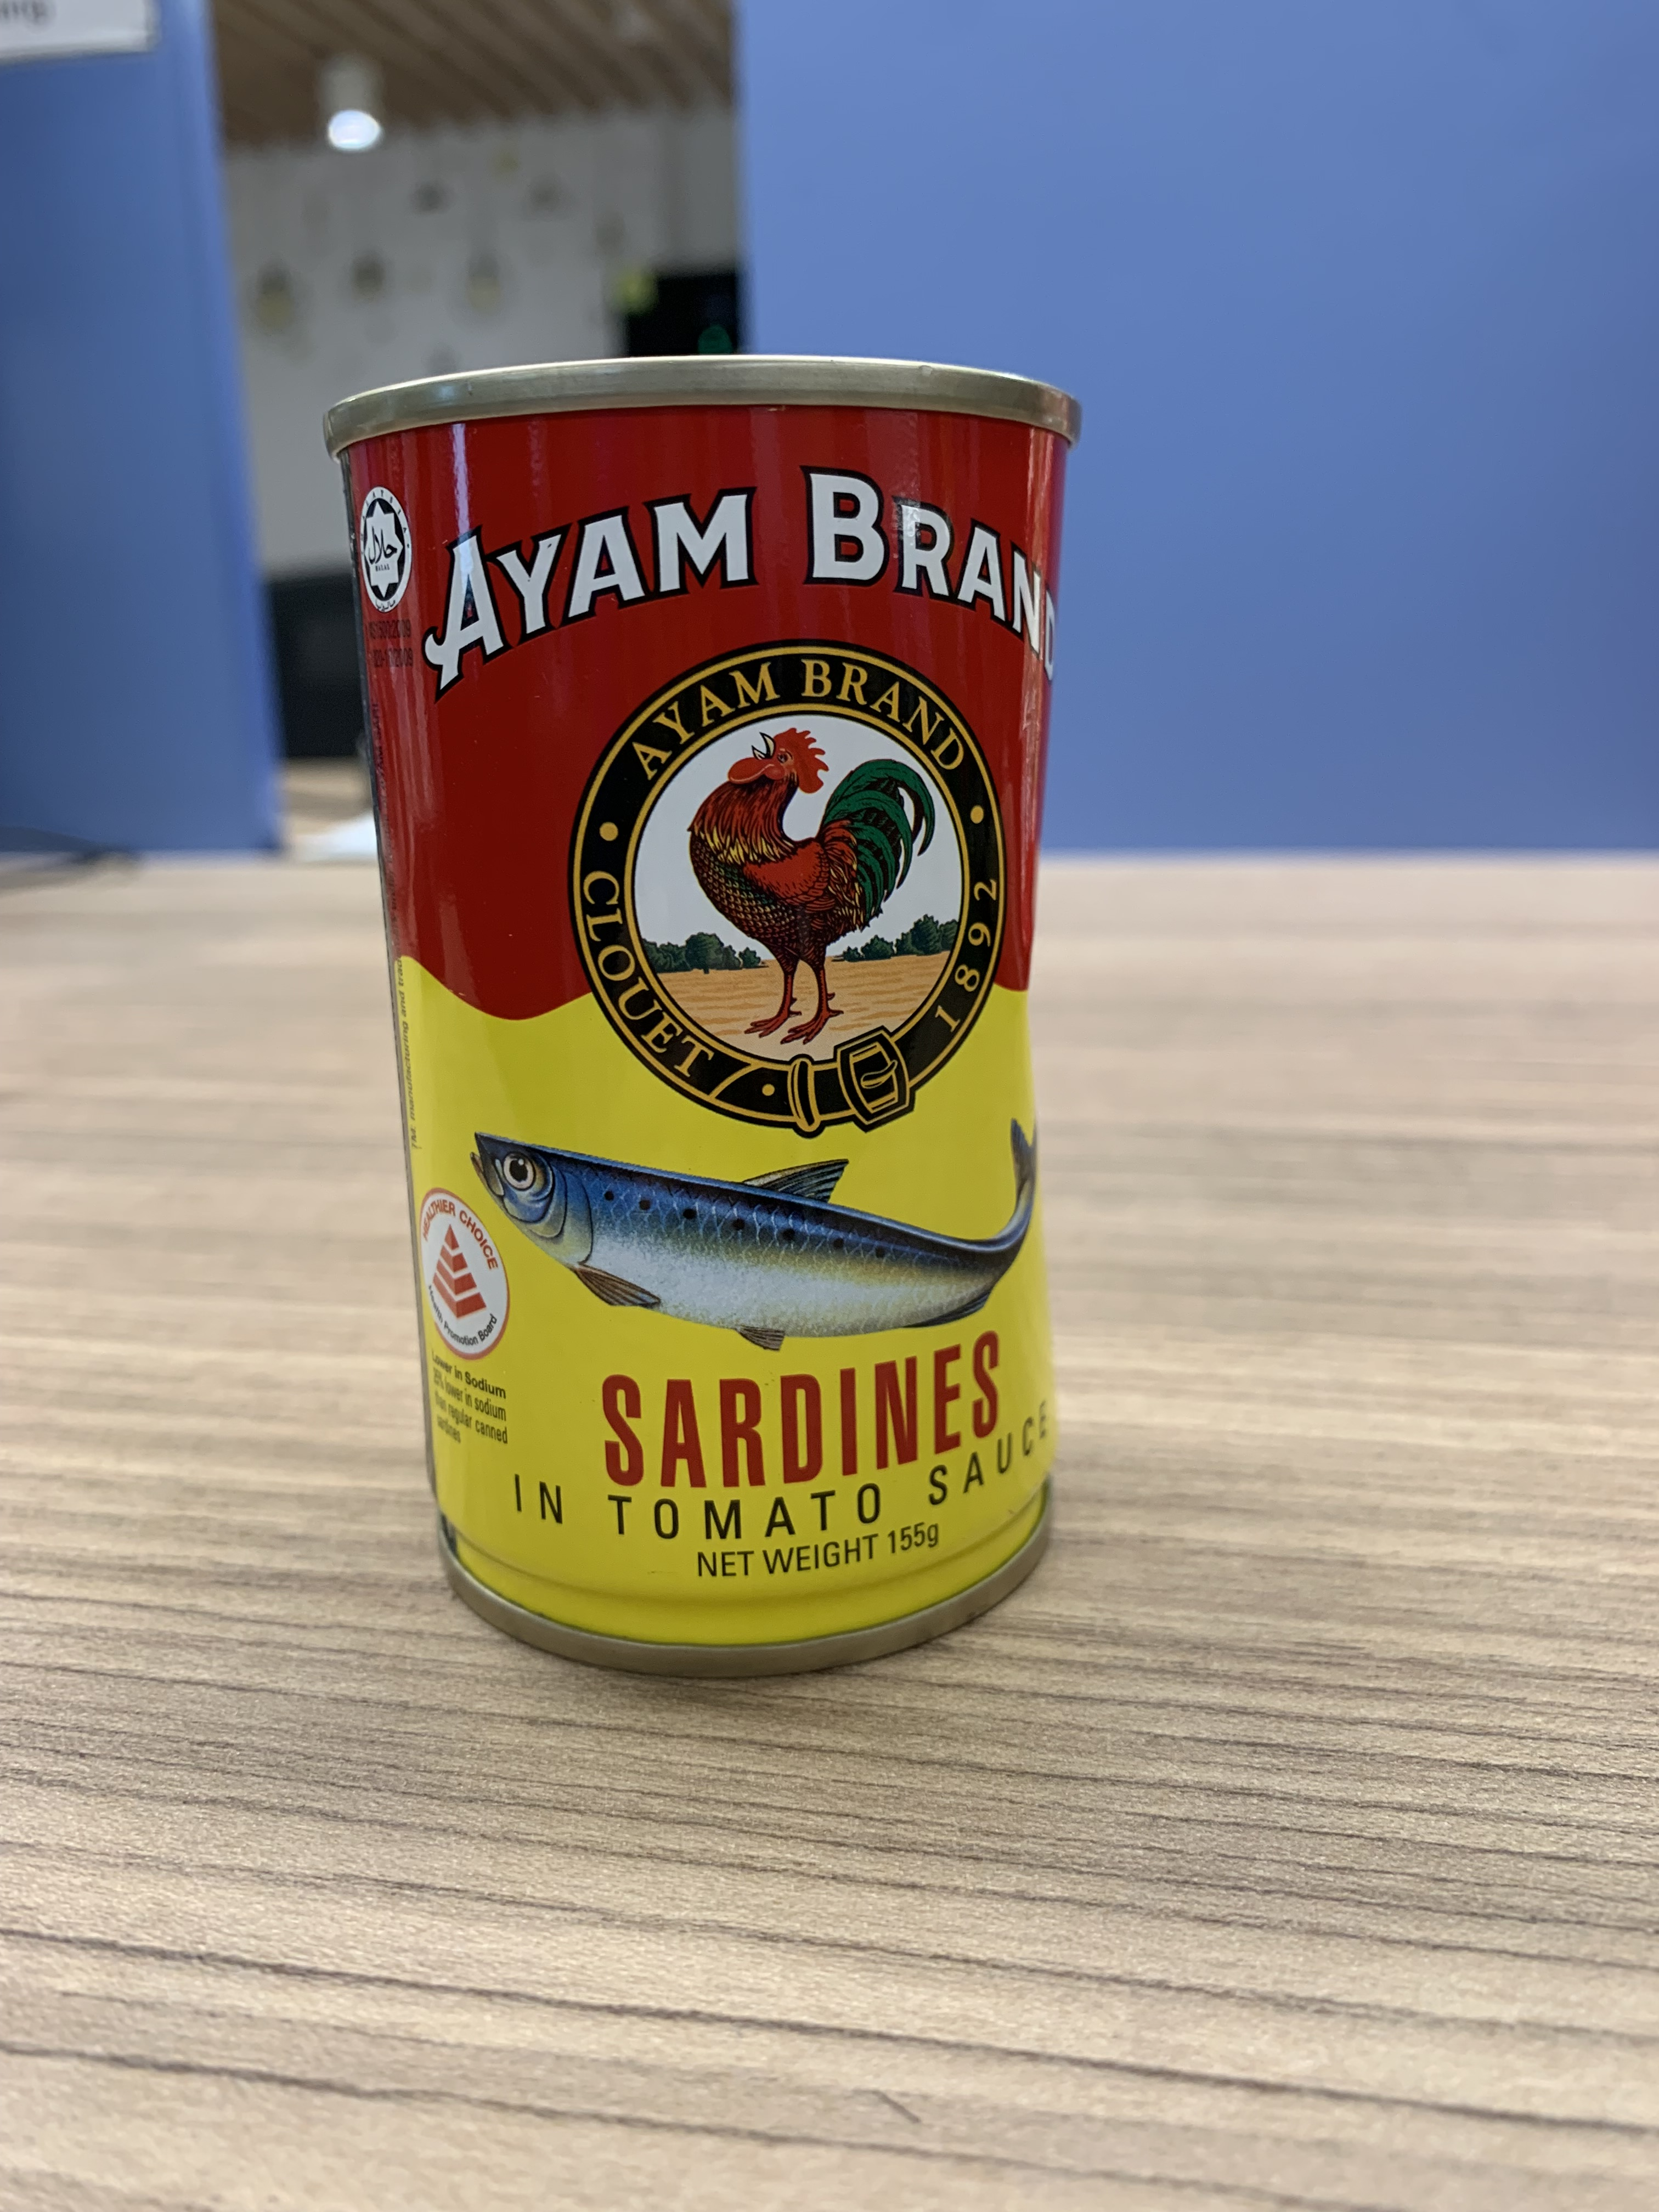sardines: (307, 350, 1094, 1702)
